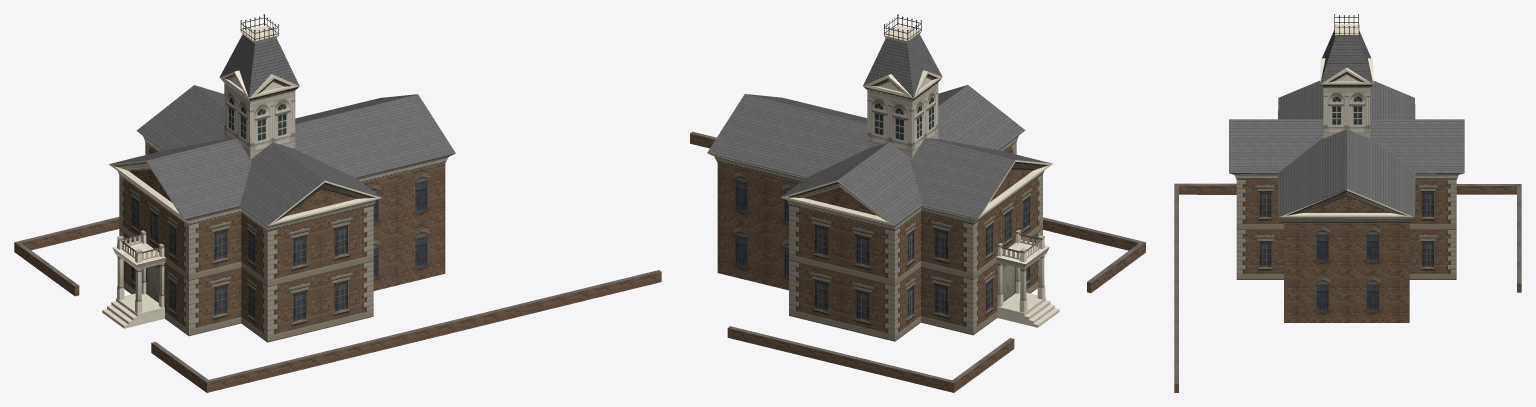
Rendered from ros_townhall.obj.
3 renders of one model, left to right at view 1: azimuth 30°, elevation 25°; view 2: azimuth 150°, elevation 25°; view 3: azimuth 270°, elevation 25°, orthographic. The views are drawn at different scales.
Parts seen in each view (by area): view 1: ros_townhall; view 2: ros_townhall; view 3: ros_townhall.
Boxes of the visible parts, x1=… form: ros_townhall: x1=14, y1=14, x2=661, y2=392; ros_townhall: x1=690, y1=14, x2=1145, y2=392; ros_townhall: x1=1174, y1=14, x2=1521, y2=392.
Size of the model in its own units: 30.15 by 16.8 by 22.09.
9 materials, 9 textured.
